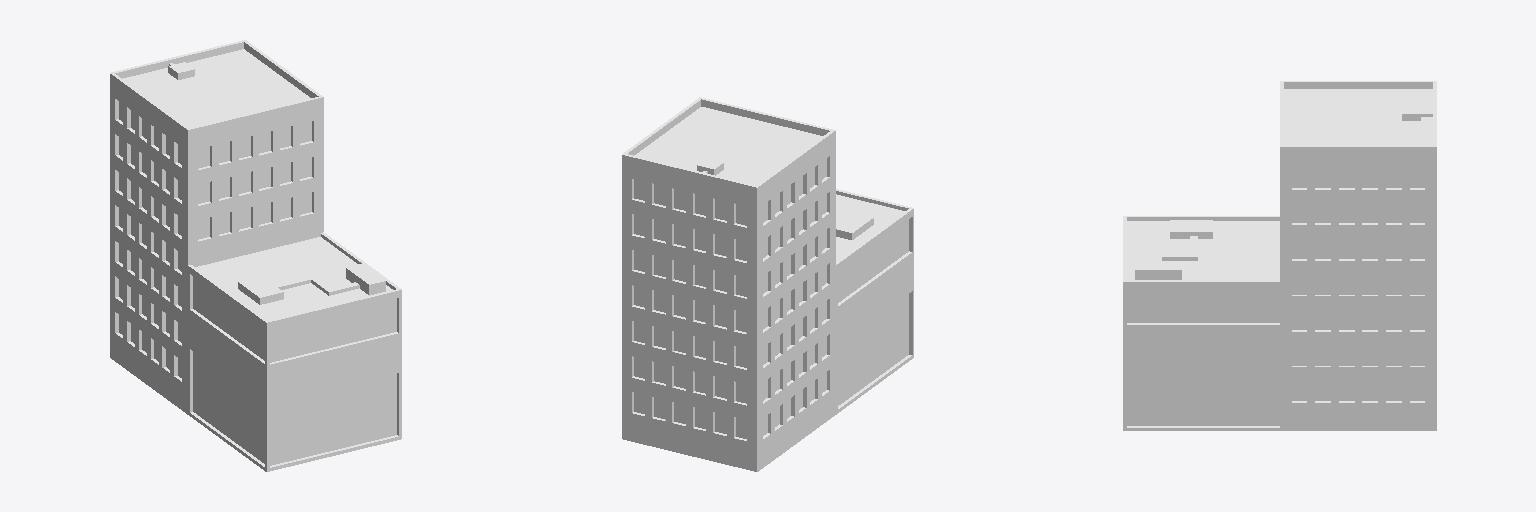
Rendered from Asset-8.obj.
The picture shows the model from 3 angles: view 1: azimuth 30°, elevation 25°; view 2: azimuth 150°, elevation 25°; view 3: azimuth 270°, elevation 25°; orthographic projection.
Parts seen in each view (by area): view 1: Asset-8; view 2: Asset-8; view 3: Asset-8.
Boxes of the visible parts, box(x1,y1,x2,y2) form: Asset-8: box(110, 40, 401, 471); Asset-8: box(622, 97, 913, 471); Asset-8: box(1123, 81, 1436, 430).
Bounding box in the file's own units: 40 × 80 × 80.